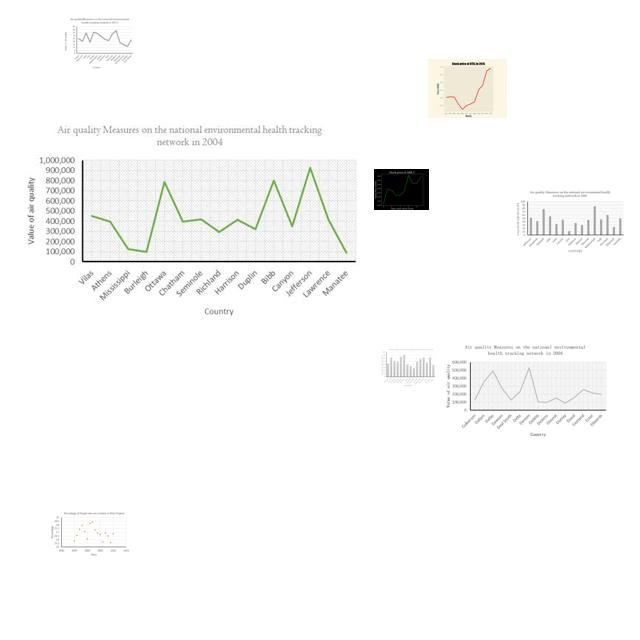Graph: (18, 119, 363, 320), (443, 341, 609, 441), (514, 189, 625, 255), (428, 59, 507, 118), (49, 510, 131, 558), (63, 17, 136, 70), (374, 169, 429, 210), (380, 348, 436, 388)
